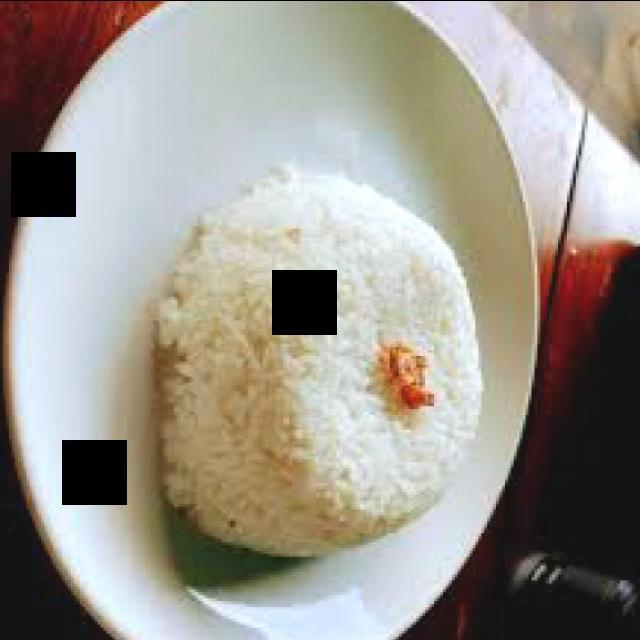rice: (155, 171, 487, 559)
